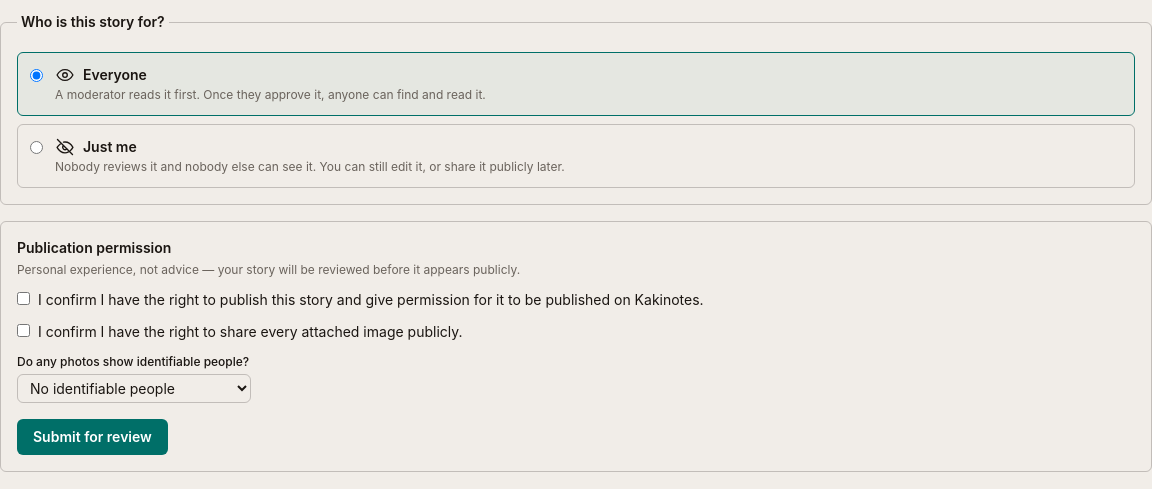
Test case: PublishChoicePanel › asks no consent questions at all on the private branch
Click the radio button labelled "Just me" at (36, 148), box [30, 141, 43, 154]
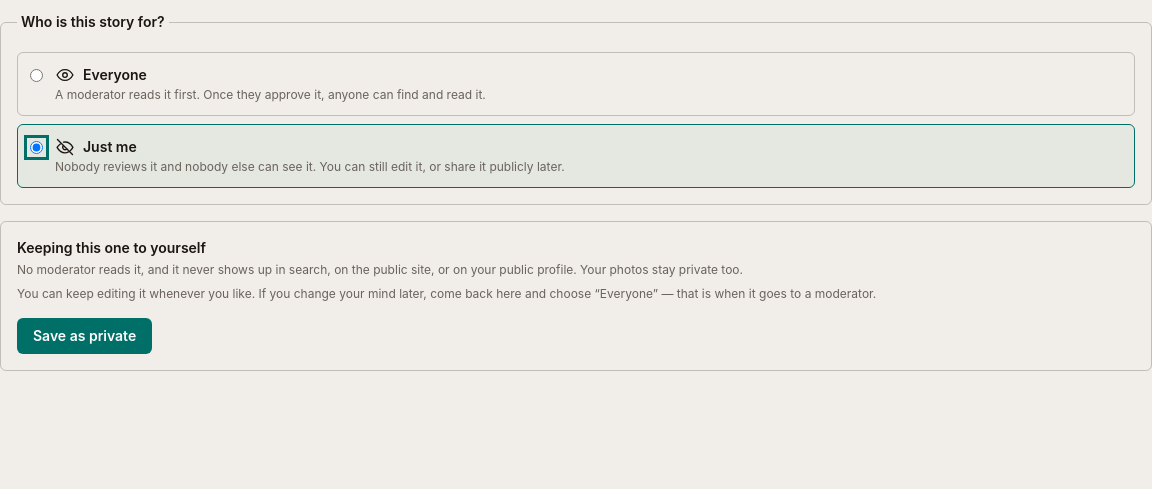
Result: the checkbox is gone
Result: the label "identifiable people" is gone
Result: the button "Submit for review" is gone
